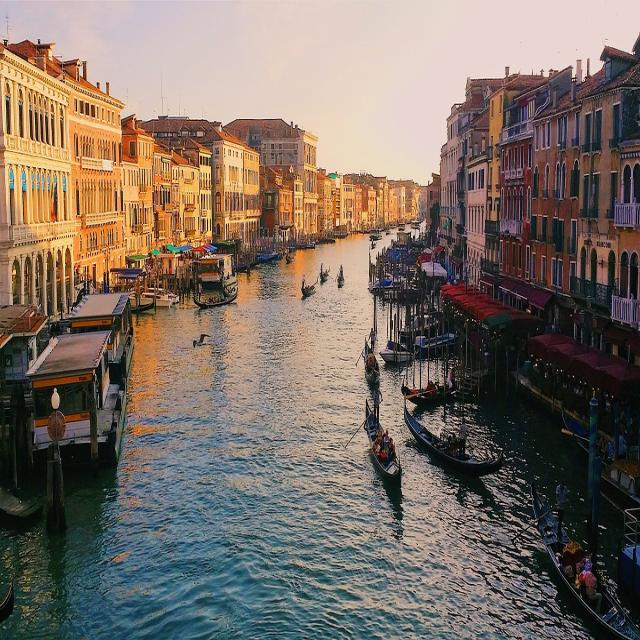boat: (521, 463, 640, 640), (402, 385, 506, 491), (359, 396, 407, 506)
